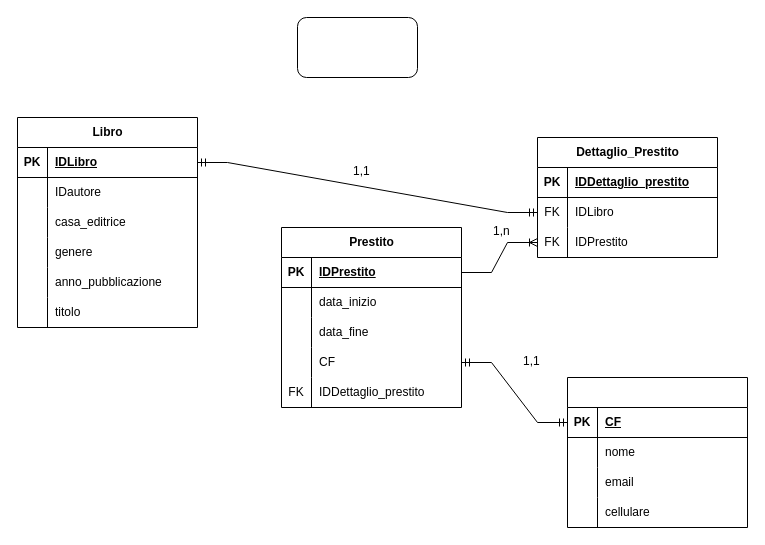
The diagram is 765 pixels wide and 545 high, and some of its shapes have lost their labels. The box of each missing label's shape, as (x1, y1, x2, y2) in pixels:
Biblioteca: (296, 16, 418, 78)
Persona: (566, 376, 748, 528)
